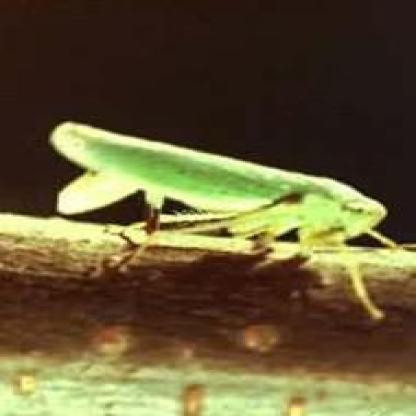Green-Leafhopper: (36, 107, 414, 326)
